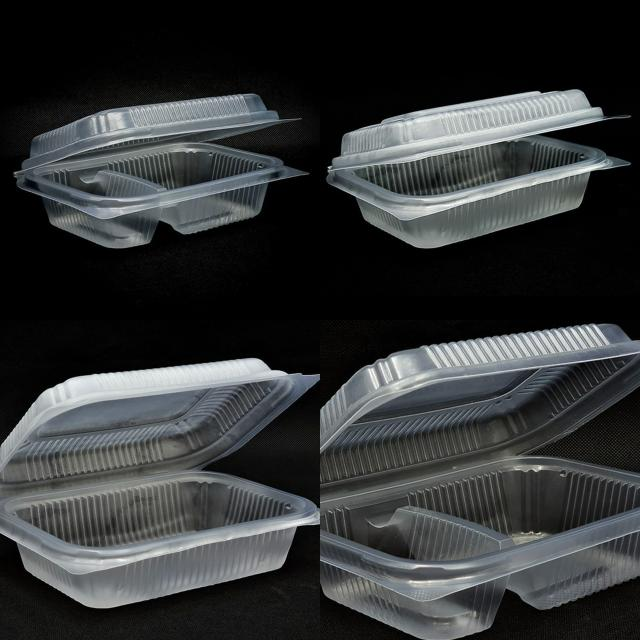Single-Use-Plastic: (320, 325, 640, 640), (0, 359, 319, 608), (328, 90, 628, 248), (16, 94, 305, 249)
